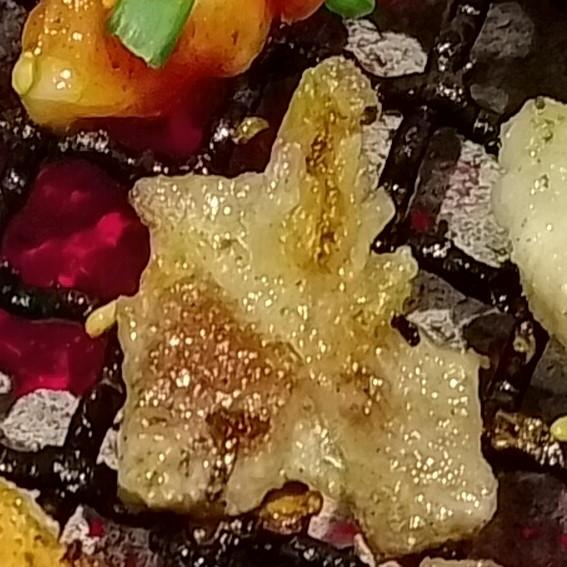Well-Cooked: (90, 57, 499, 566)
